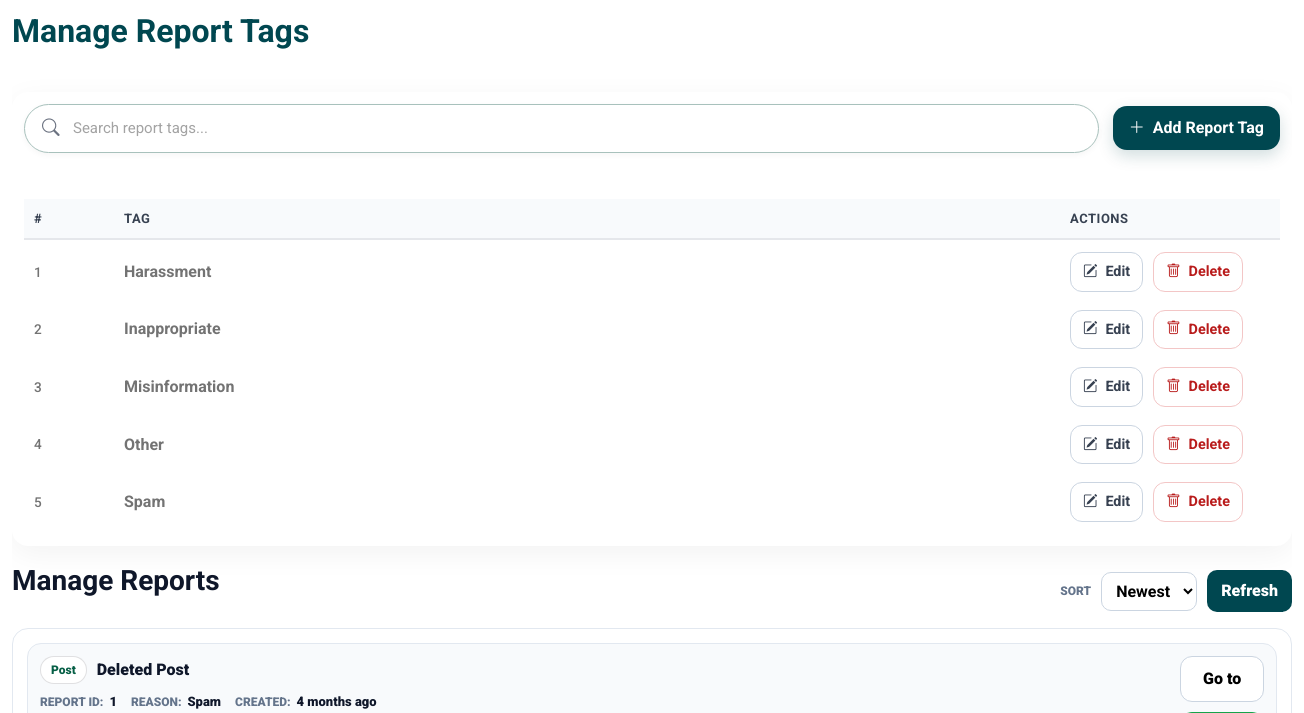
Test: AdminReports.vue — DOM + CRUD behaviors › 13) after Refresh, reports for a deleted post are gone
Step 1. Click the button with class "btn-refresh" → click(1250, 591), box x1=1207 y1=570 x2=1292 y2=612
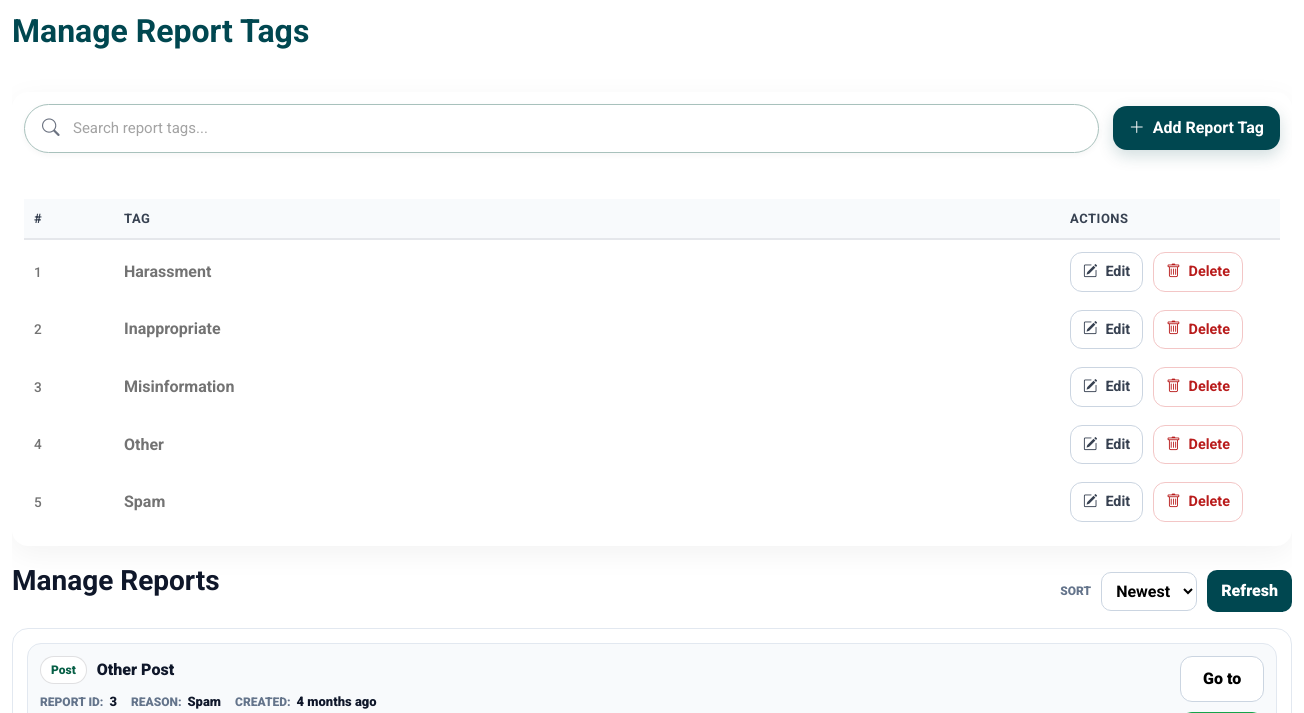
Expected: the text "Other Post" is shown, x1=97 y1=660 x2=174 y2=679
Expected: the text "Deleted Post" is gone
